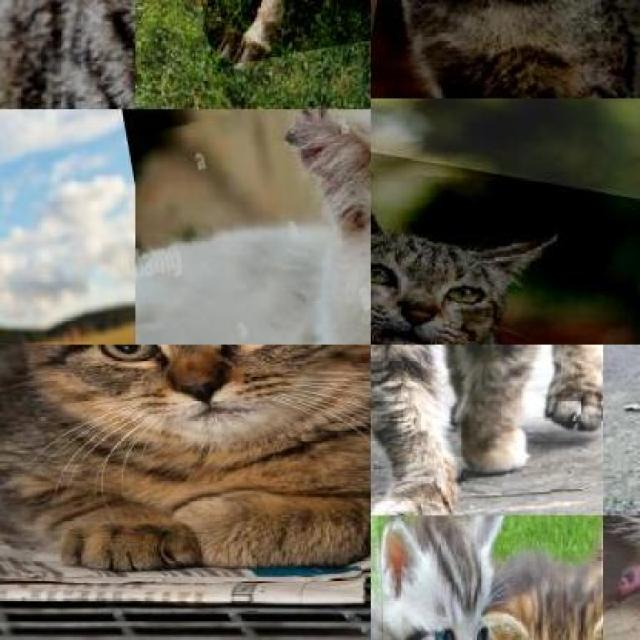cat: (0, 345, 371, 552), (135, 109, 371, 345), (371, 140, 640, 345), (371, 344, 603, 516), (371, 0, 640, 98), (0, 0, 135, 109), (392, 515, 505, 640), (499, 578, 603, 640)
